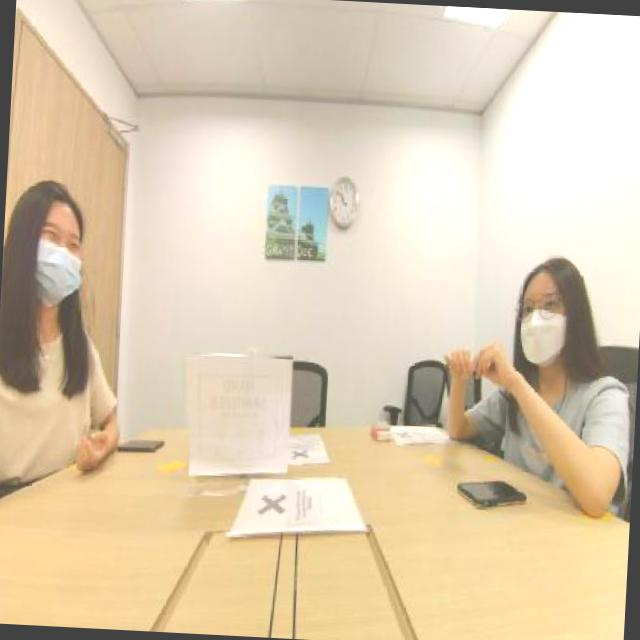Person: (470, 222, 636, 464), (4, 156, 117, 444)
